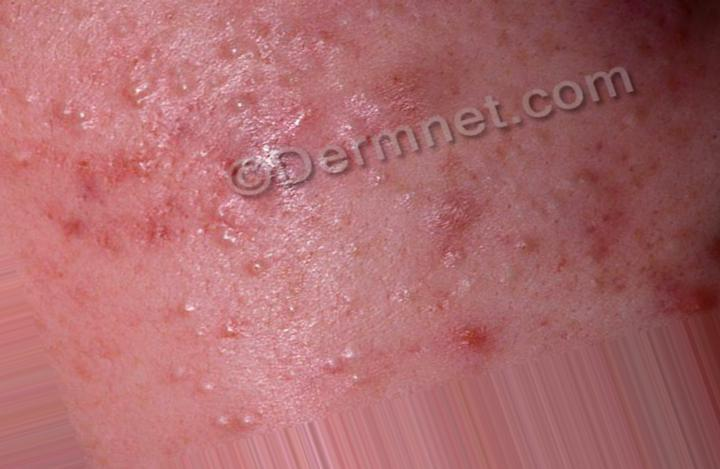Acne: (420, 218, 673, 324), (154, 235, 283, 440), (89, 34, 303, 137)
